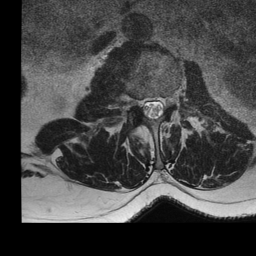CCS_normal: (149, 88, 157, 126)
LFS_normal: (165, 85, 174, 113)
LLS_normal: (157, 87, 165, 121)
RFS_stenosis: (133, 87, 141, 114)
RLS_normal: (141, 88, 149, 123)
